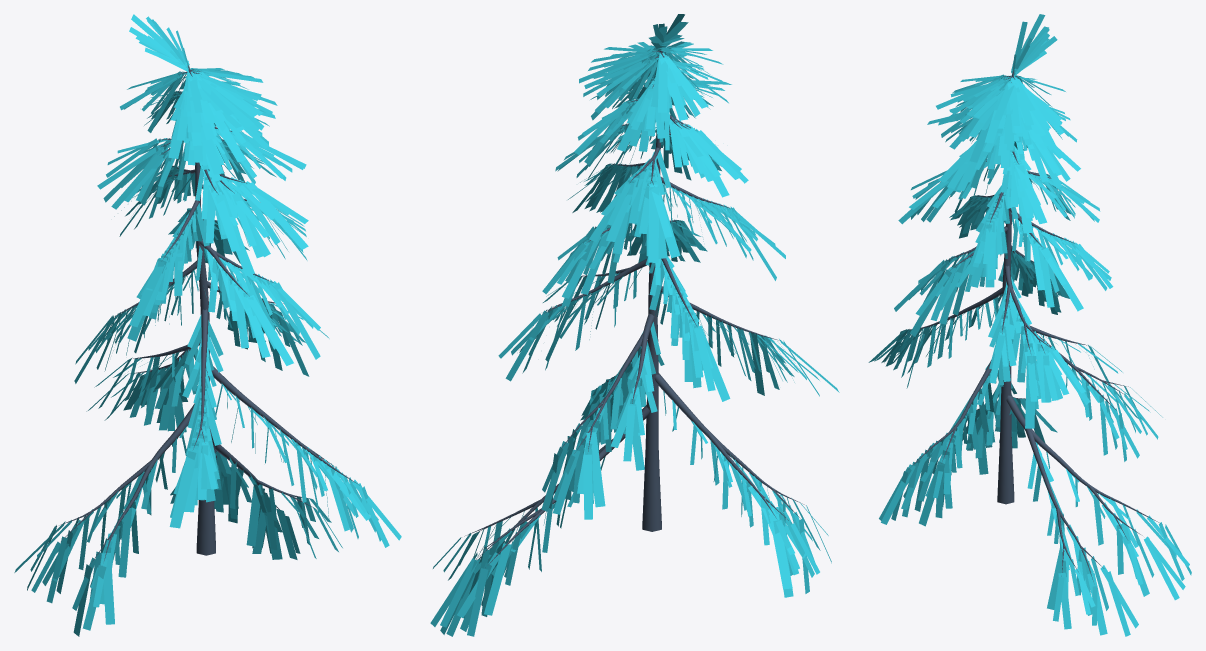
Rendered from tree7.fbx.
The picture shows the model from 3 angles, left to right: view 1: azimuth 30°, elevation 25°; view 2: azimuth 150°, elevation 25°; view 3: azimuth 270°, elevation 25°; orthographic projection. The views are drawn at different scales.
Parts seen in each view (by area): view 1: leaves.006, tree.006; view 2: leaves.006, tree.006; view 3: leaves.006, tree.006.
Part boxes in pixels (bbox=[...]): leaves.006: bbox=[14, 14, 401, 636]; tree.006: bbox=[59, 65, 359, 563]; leaves.006: bbox=[430, 14, 839, 636]; tree.006: bbox=[464, 50, 804, 564]; leaves.006: bbox=[868, 14, 1191, 636]; tree.006: bbox=[905, 70, 1162, 581].
Bounding box in the file's own units: 986 × 1713 × 930.
